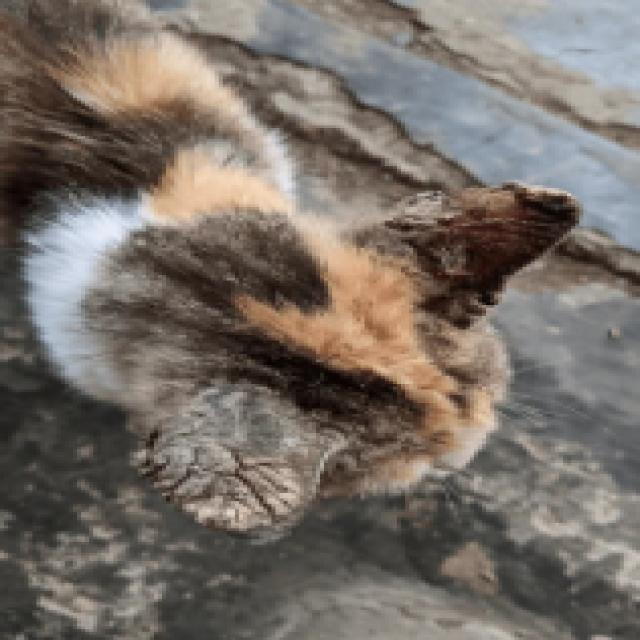Mange: (111, 439, 332, 542), (187, 388, 328, 464), (400, 187, 472, 236)
